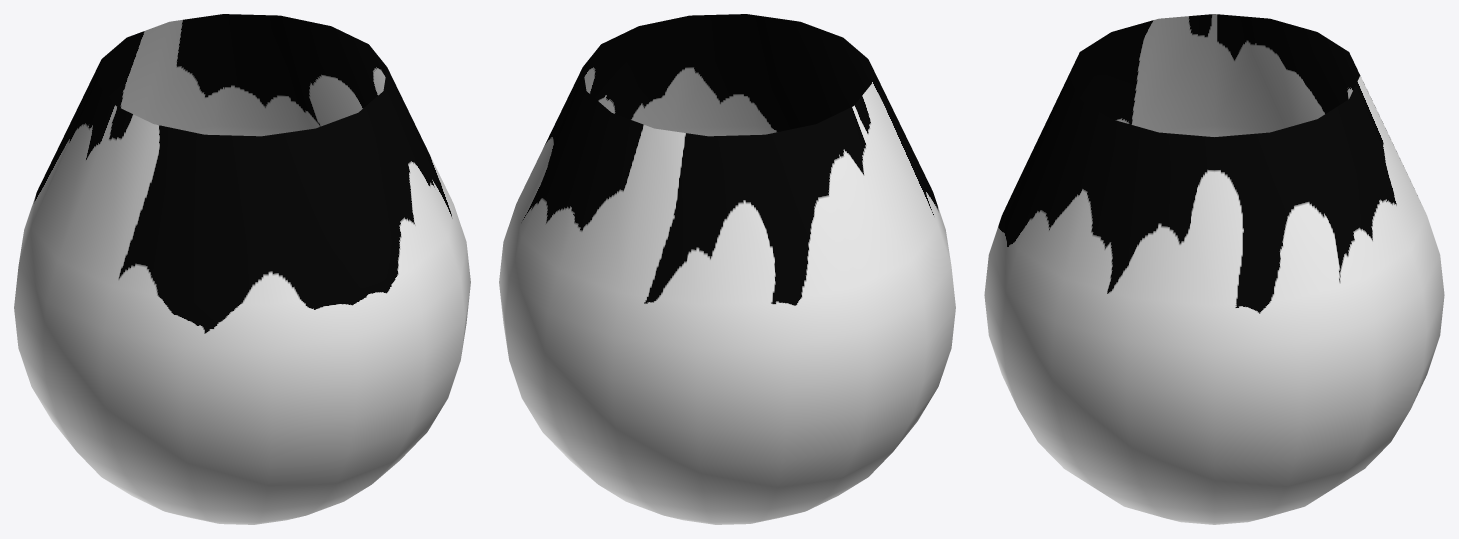
File: Energy.fbx
3 views of the same model, side by side, from view 1: azimuth 30°, elevation 25°; view 2: azimuth 150°, elevation 25°; view 3: azimuth 270°, elevation 25° (orthographic).
Visible parts, largest first — view 1: Sphere; view 2: Sphere; view 3: Sphere.
Boxes of the visible parts, x1=… form: Sphere: x1=14, y1=14, x2=470, y2=524; Sphere: x1=499, y1=14, x2=955, y2=524; Sphere: x1=984, y1=14, x2=1444, y2=524.
Bounding box in the file's own units: 200 × 205 × 200.
